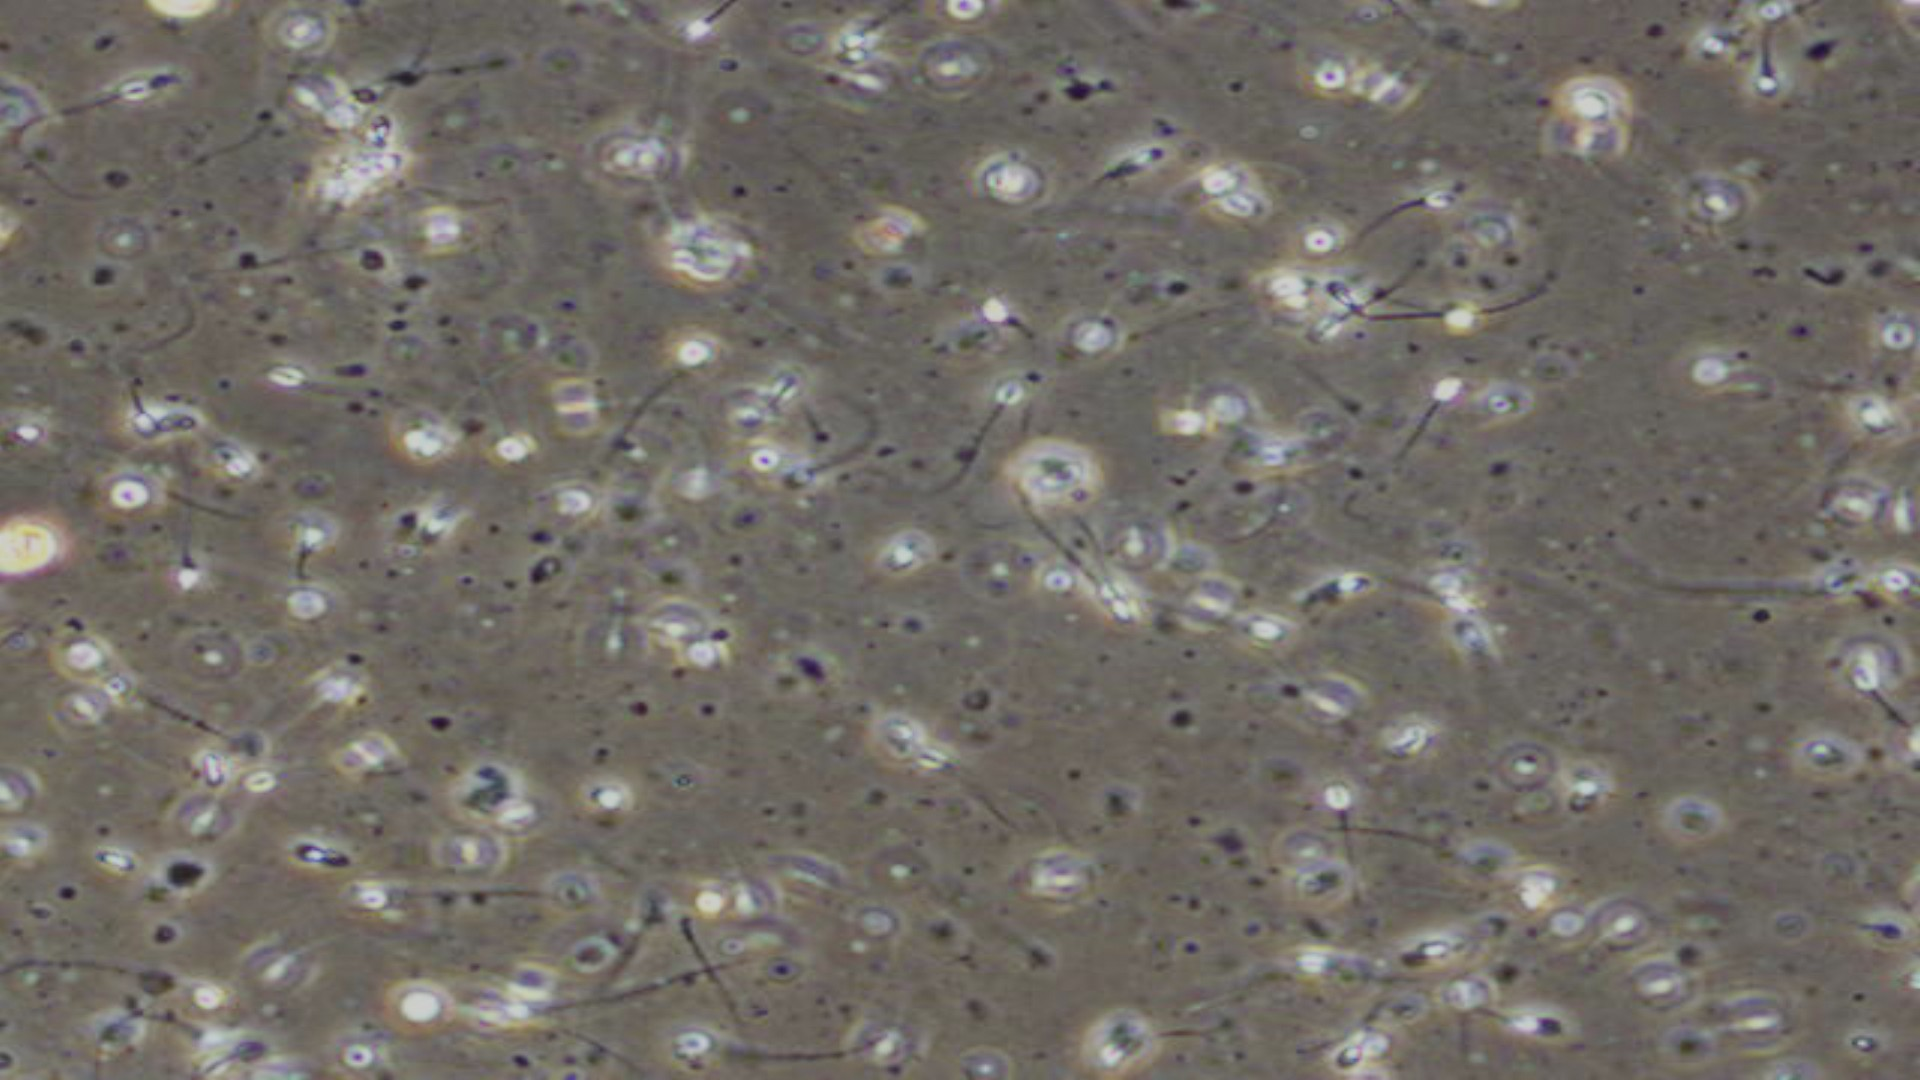sperm: (1160, 585, 1288, 651), (949, 371, 1027, 473), (54, 75, 160, 149), (659, 1031, 827, 1077), (778, 427, 868, 512), (636, 328, 717, 411), (502, 986, 632, 1034), (157, 514, 214, 622), (1315, 777, 1371, 878), (1087, 514, 1135, 625), (1371, 193, 1478, 243), (1402, 368, 1458, 459), (985, 284, 1050, 361), (659, 9, 760, 59), (1048, 534, 1120, 599), (1325, 1000, 1382, 1080), (291, 518, 347, 599), (1460, 998, 1563, 1039), (1745, 22, 1795, 105), (1367, 311, 1478, 342), (829, 7, 899, 50), (123, 371, 164, 442)
